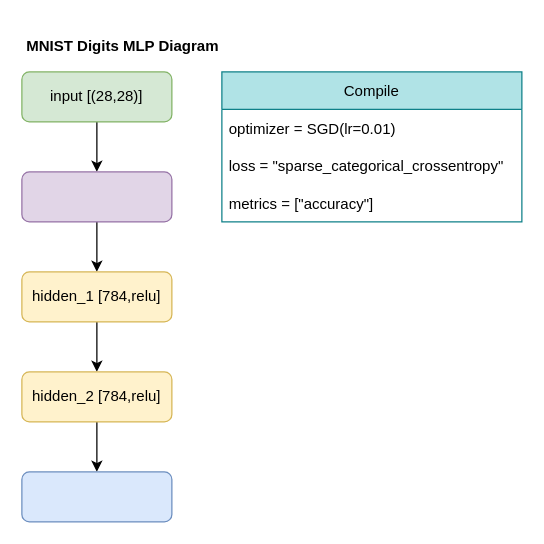
This 544x544 diagram has some shape labels left out. The shapes that lost their labels are listed below. From the top down, each one's box as (x1, y1, x2, y2) in pixels, then its label:
(21, 171, 172, 222): flatten
(21, 471, 172, 522): output [10,softmax]
